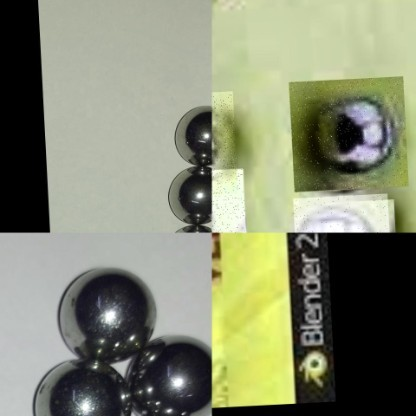ironball: (286, 79, 405, 194), (56, 264, 158, 366), (128, 331, 210, 414), (32, 354, 133, 414), (289, 196, 387, 232), (165, 164, 212, 229), (173, 101, 217, 166), (211, 92, 234, 198)
